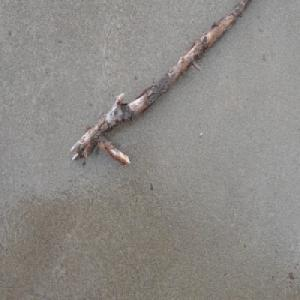Wood: (68, 0, 254, 169)
